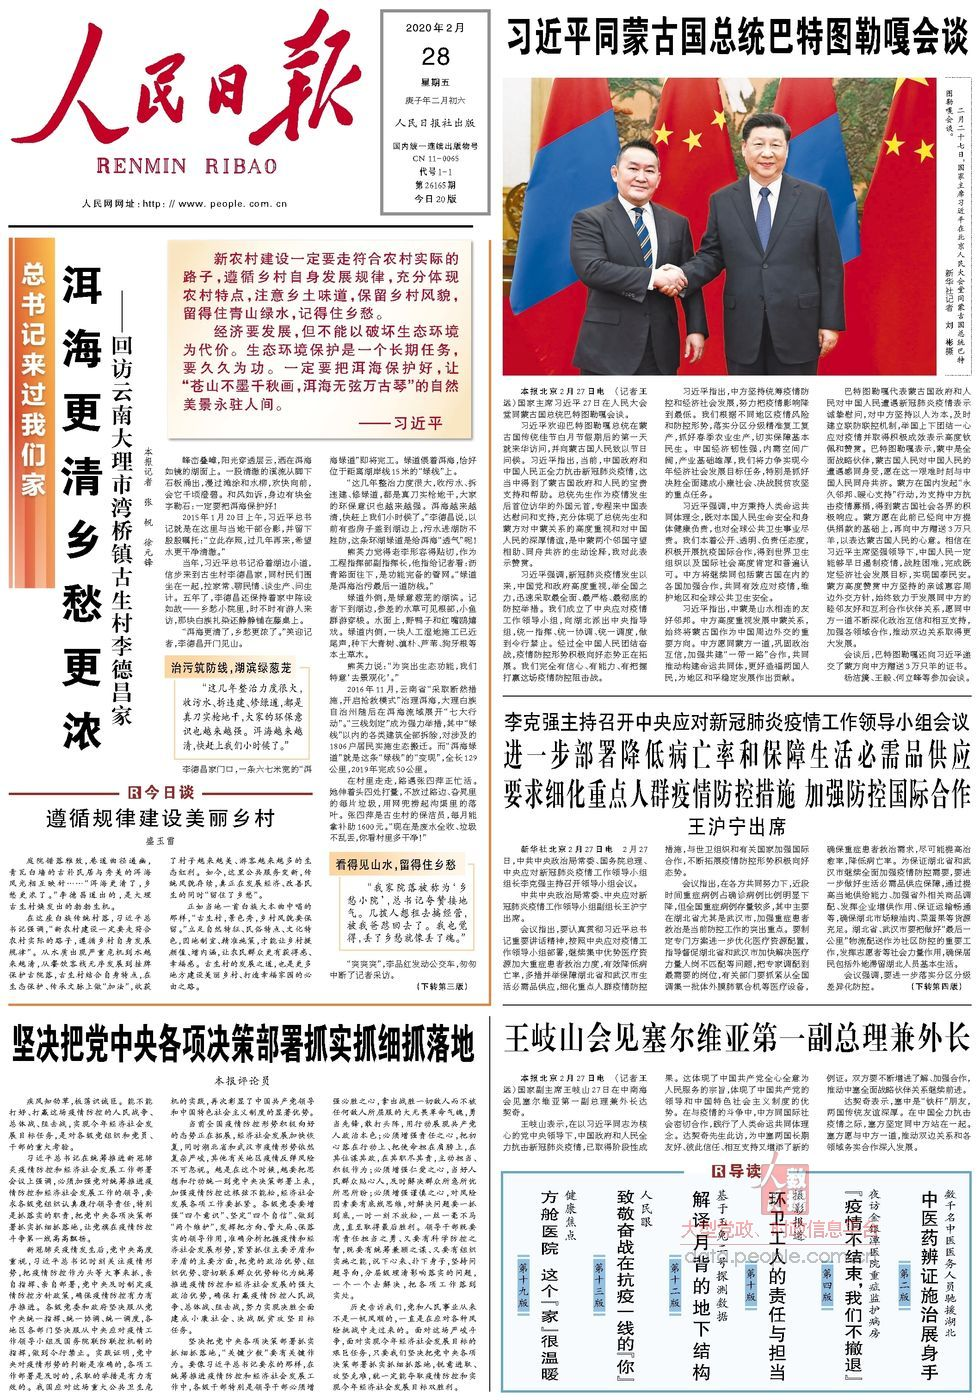pic: (499, 72, 940, 376)
